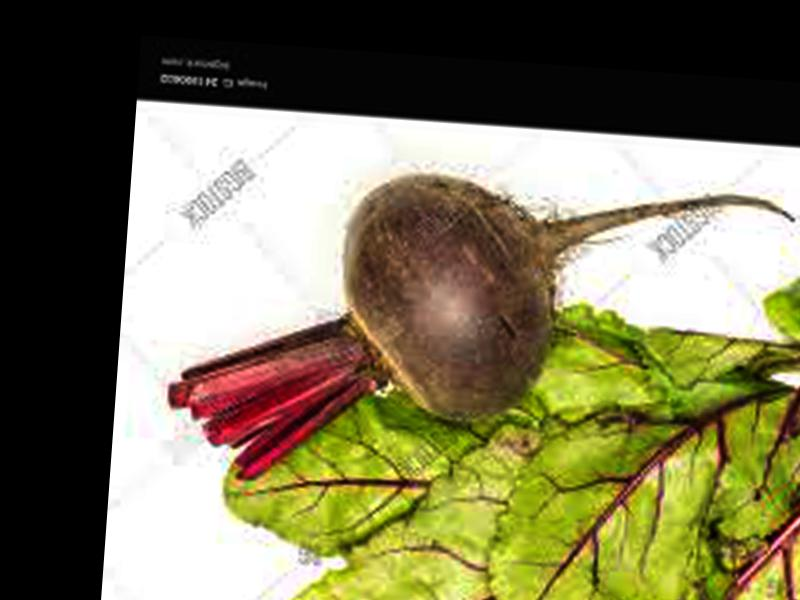Beet: (162, 155, 795, 517)
